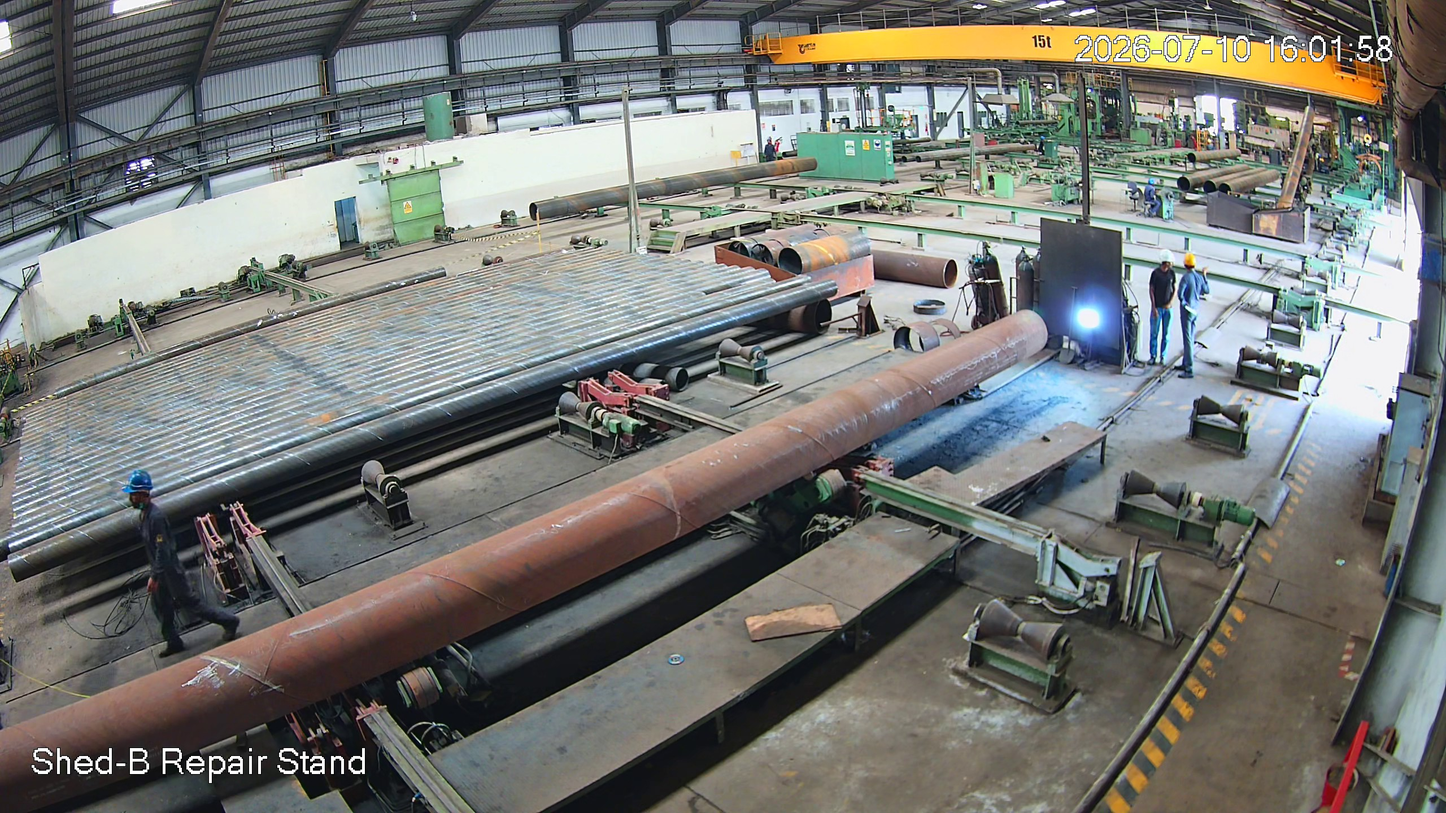Helmet: (115, 472, 175, 533), (1179, 249, 1204, 281), (1154, 246, 1180, 271)
Person: (108, 479, 250, 657), (1178, 253, 1209, 381), (1148, 248, 1175, 374)
